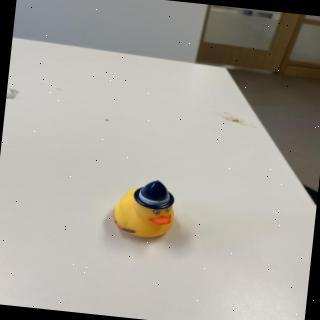duck_specialty: (109, 175, 181, 242)
